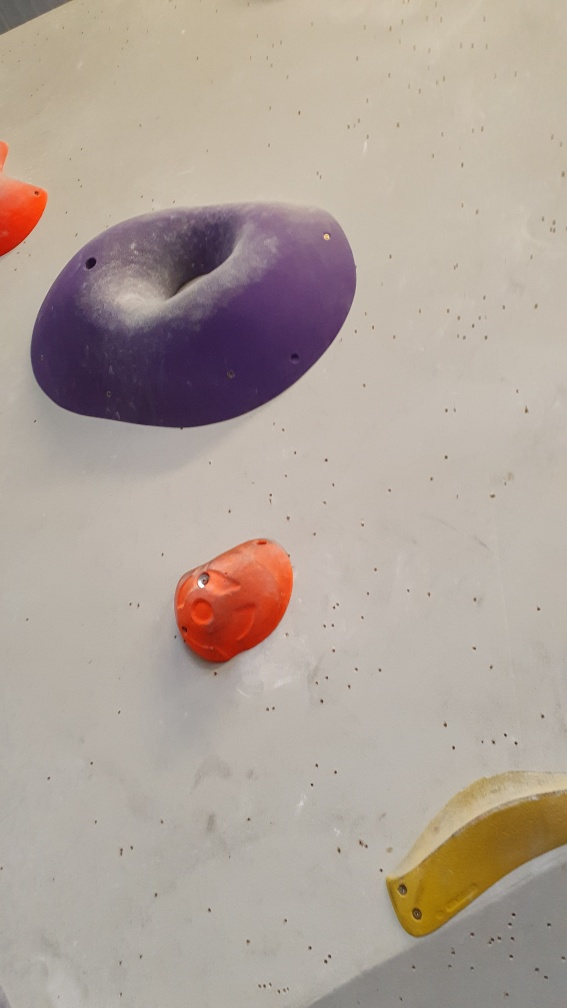Pocket: (31, 197, 359, 429)
